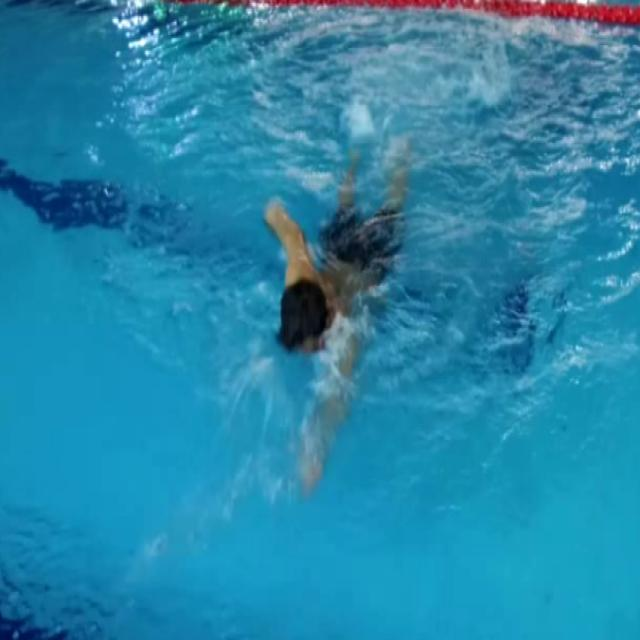Swimming: (264, 147, 416, 493)
